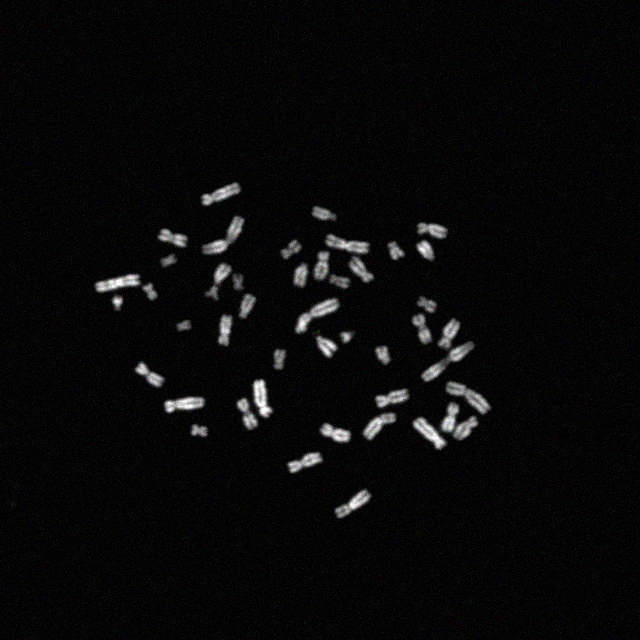chromosome: (422, 342, 476, 384), (202, 216, 244, 256), (444, 381, 492, 414), (296, 298, 342, 332), (414, 416, 446, 450), (336, 488, 370, 520), (364, 412, 398, 440), (202, 182, 240, 204), (325, 236, 369, 254), (96, 274, 140, 292), (136, 361, 164, 389), (254, 380, 274, 418), (165, 396, 205, 414), (437, 319, 459, 351), (288, 453, 322, 472), (236, 398, 256, 430), (350, 256, 374, 282), (158, 227, 186, 249), (376, 389, 410, 407), (412, 314, 432, 344), (320, 423, 350, 442), (316, 334, 338, 358), (237, 294, 257, 320), (416, 222, 448, 238), (454, 416, 476, 439), (311, 207, 339, 225), (314, 250, 330, 280), (218, 315, 232, 347), (442, 403, 458, 431), (281, 238, 299, 262), (293, 262, 309, 288), (214, 264, 230, 286), (388, 240, 404, 260), (418, 241, 434, 261), (329, 273, 349, 289), (418, 297, 438, 313), (339, 330, 358, 346), (144, 282, 158, 302), (377, 346, 391, 366), (272, 350, 286, 370), (160, 253, 176, 269), (205, 285, 219, 303), (191, 424, 209, 438), (234, 274, 246, 294), (177, 320, 193, 334), (112, 296, 124, 314)
